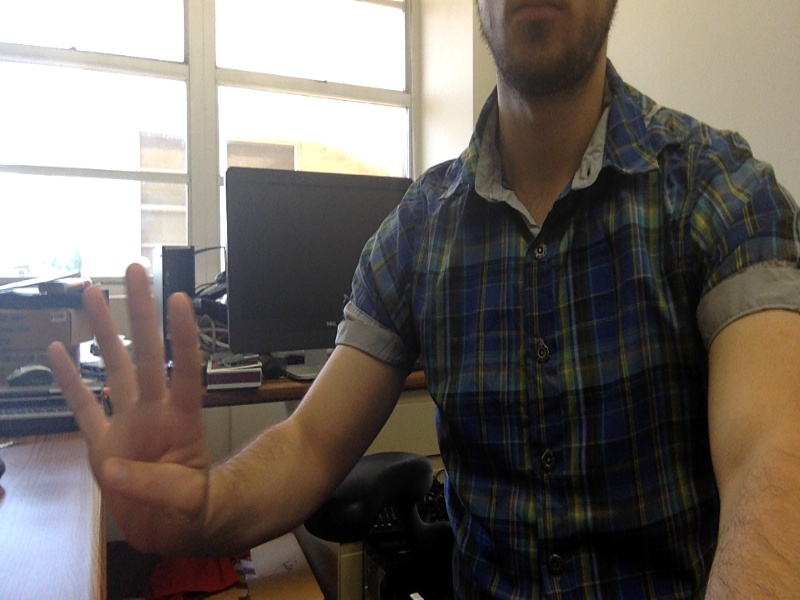4-hand: (42, 265, 207, 553)
